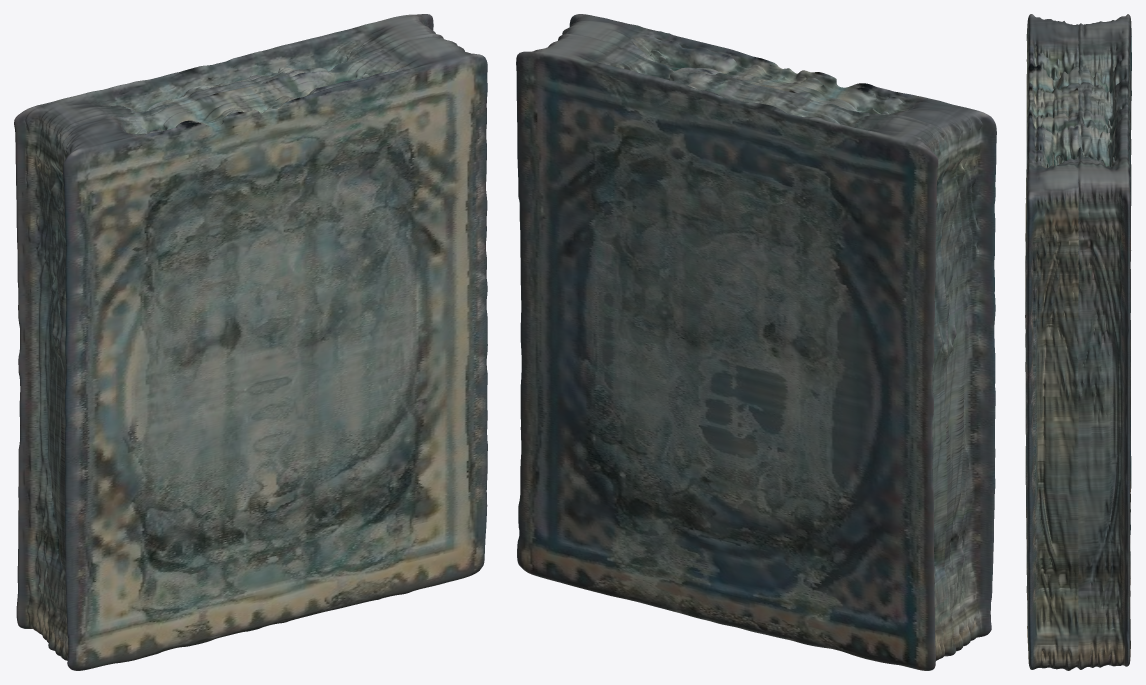
The model's file is kfl-2227.glb.
3 renders of one model, left to right at view 1: azimuth 30°, elevation 25°; view 2: azimuth 150°, elevation 25°; view 3: azimuth 270°, elevation 25°, orthographic. The views are drawn at different scales.
Parts seen in each view (by area): view 1: geometry_0; view 2: geometry_0; view 3: geometry_0.
Part boxes in pixels (box(x1,y1,x2,y2)): geometry_0: box(14, 14, 487, 670); geometry_0: box(516, 14, 996, 670); geometry_0: box(1025, 14, 1131, 670).
Bounding box in the file's own units: 0.8352 × 0.9973 × 0.1989.
Materials: 1 (1 with a texture image).
